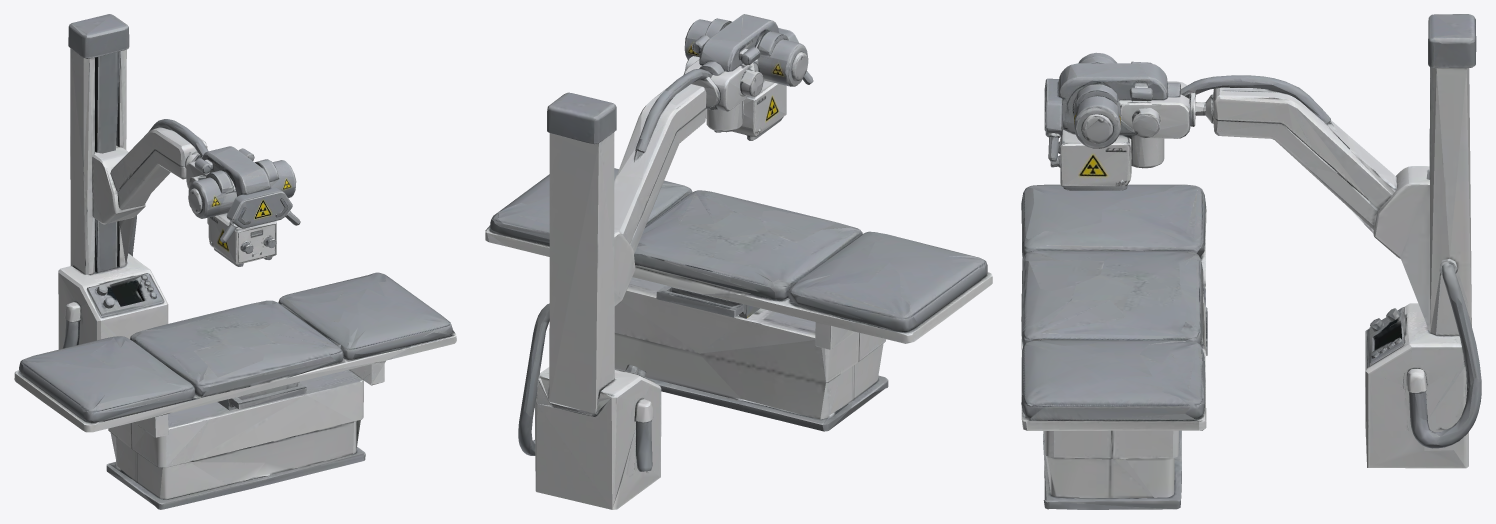
The model's file is xray.glb.
3 renders of one model, left to right at view 1: azimuth 30°, elevation 25°; view 2: azimuth 150°, elevation 25°; view 3: azimuth 270°, elevation 25°, orthographic. The views are drawn at different scales.
Bounding box in the file's own units: 1.9 × 1.67 × 1.64.
Materials: 1 (1 with a texture image).
